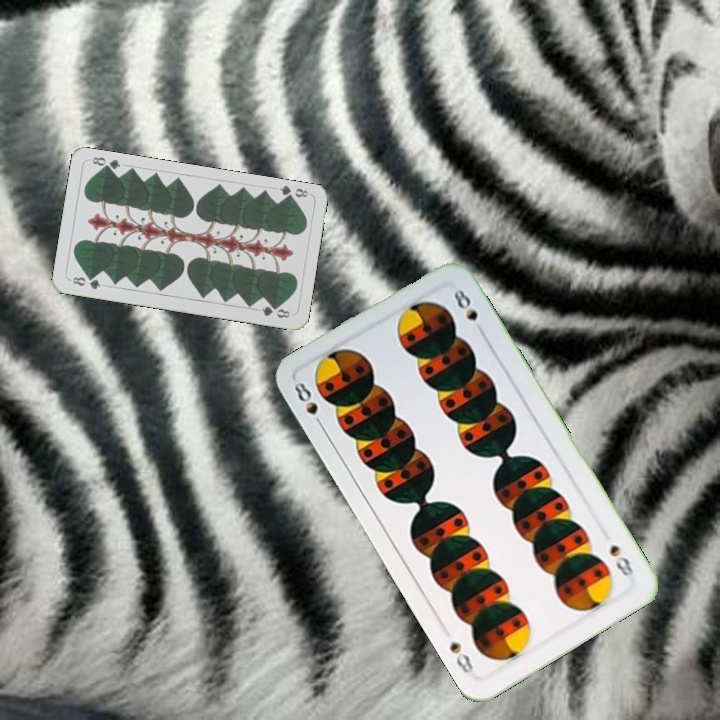G8: (276, 182, 312, 204), (66, 273, 103, 292)
S8: (290, 378, 327, 432), (605, 540, 637, 579)
